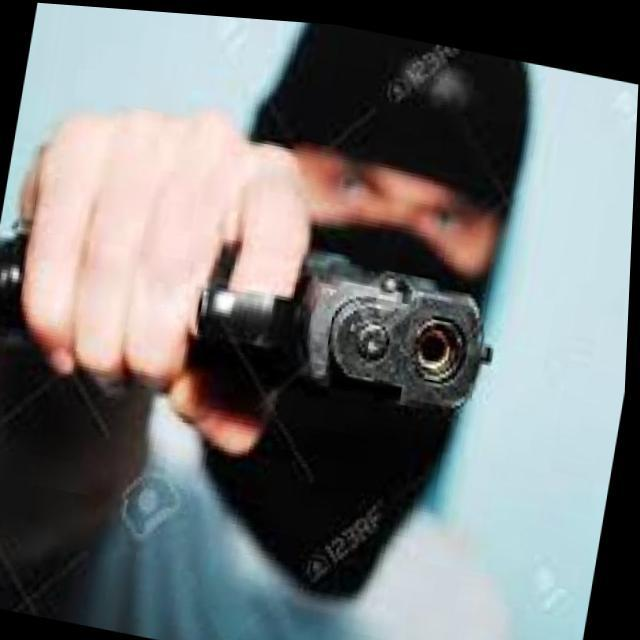weapon: (0, 169, 515, 445)
